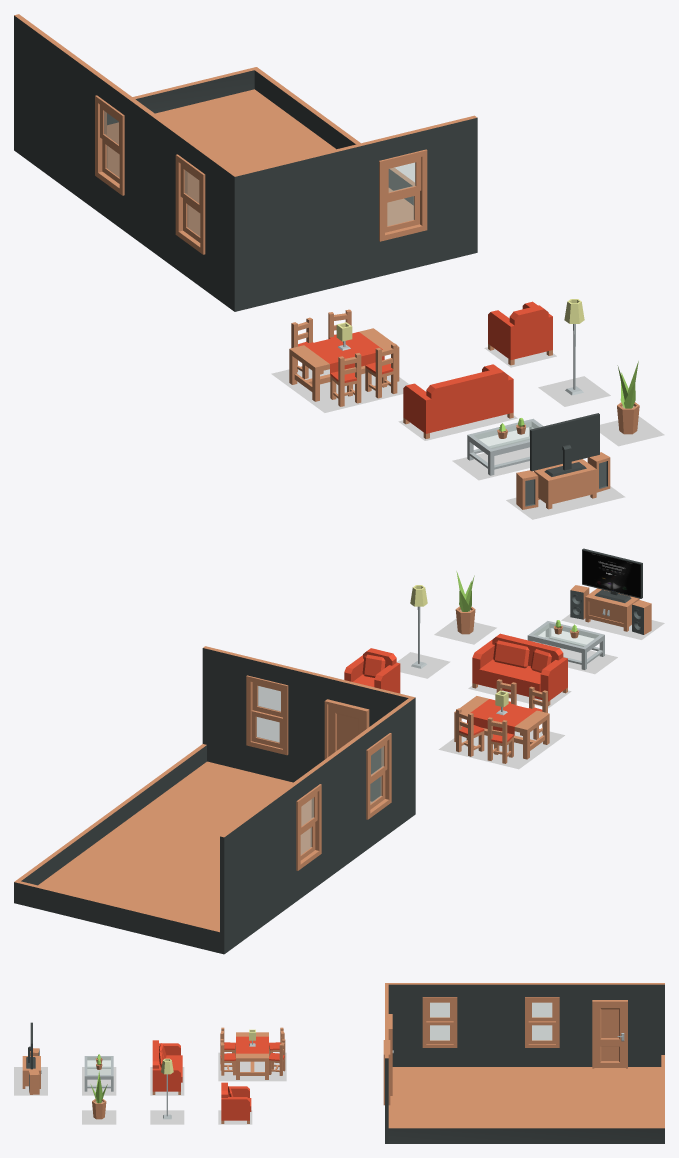
Rendered from furniture.glb.
The picture shows the model from 3 angles, top to bottom: view 1: azimuth 30°, elevation 25°; view 2: azimuth 150°, elevation 25°; view 3: azimuth 270°, elevation 25°; orthographic projection. The views are drawn at different scales.
Parts seen in each view (by area): view 1: roomWalls, roomFloor, sofa, television, table, armchair, coffeeTable, televisionCabinet, tableGround, tableChair2, tableChair1, televisionGround (+7 smaller); view 2: roomWalls, roomFloor, sofa, table, televisionScreen, roomDoor1, coffeeTable, tableGround, armchair, televisionCabinet, tableChair3, tableChair4 (+8 smaller); view 3: roomWalls, roomFloor, roomDoor2, sofa, table, armchair, tableGround, coffeeTable, coffeeTableGround, televisionGround, lampGround, plant (+8 smaller).
Boxes of the visible parts, x1,y1,x2,y2 form: roomWalls: [14, 14, 477, 311]; roomFloor: [107, 89, 413, 234]; sofa: [403, 364, 513, 438]; television: [530, 413, 599, 476]; table: [289, 328, 399, 401]; armchair: [488, 301, 552, 365]; coffeeTable: [467, 418, 543, 475]; televisionCabinet: [534, 459, 596, 509]; tableGround: [271, 368, 409, 412]; tableChair2: [365, 343, 397, 398]; tableChair1: [330, 353, 361, 406]; televisionGround: [506, 486, 625, 519]; roomWalls: [14, 646, 415, 954]; roomFloor: [38, 761, 371, 929]; sofa: [472, 633, 567, 706]; table: [454, 696, 549, 759]; televisionScreen: [583, 550, 640, 597]; roomDoor1: [324, 699, 369, 759]; coffeeTable: [527, 621, 604, 669]; tableGround: [438, 730, 564, 769]; armchair: [344, 648, 400, 693]; televisionCabinet: [585, 588, 639, 631]; tableChair3: [487, 717, 513, 763]; tableChair4: [456, 708, 484, 756]; roomWalls: [383, 983, 664, 1143]; roomFloor: [388, 1067, 661, 1126]; roomDoor2: [592, 1000, 627, 1068]; sofa: [152, 1040, 182, 1094]; table: [236, 1032, 268, 1079]; armchair: [221, 1082, 251, 1123]; tableGround: [218, 1052, 286, 1081]; coffeeTable: [84, 1056, 113, 1091]; coffeeTableGround: [82, 1067, 116, 1095]; televisionGround: [14, 1067, 47, 1095]; lampGround: [150, 1110, 184, 1124]; plant: [90, 1071, 107, 1119].
Size of the model in its own units: 6.11 by 2.77 by 19.11.
29 materials, 1 textured.
